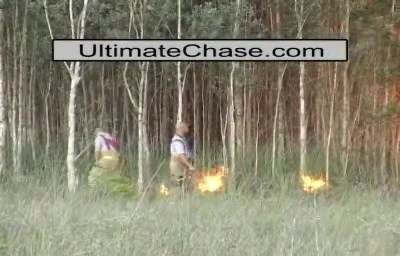fire: (193, 161, 229, 193), (298, 168, 333, 192)
